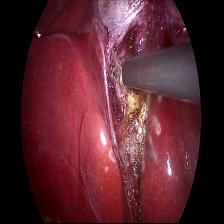Hook: (108, 58, 128, 90)
